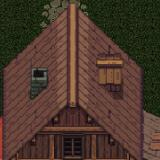Obstacle: (0, 67, 160, 160)
